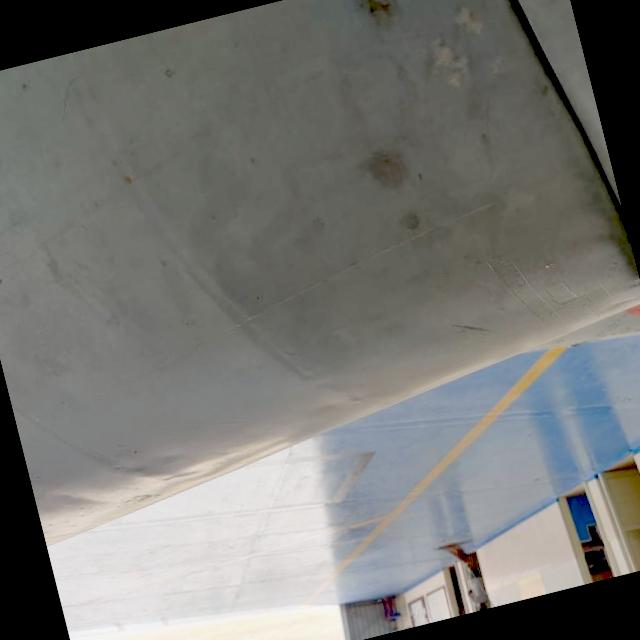scratch: (58, 179, 536, 427)
